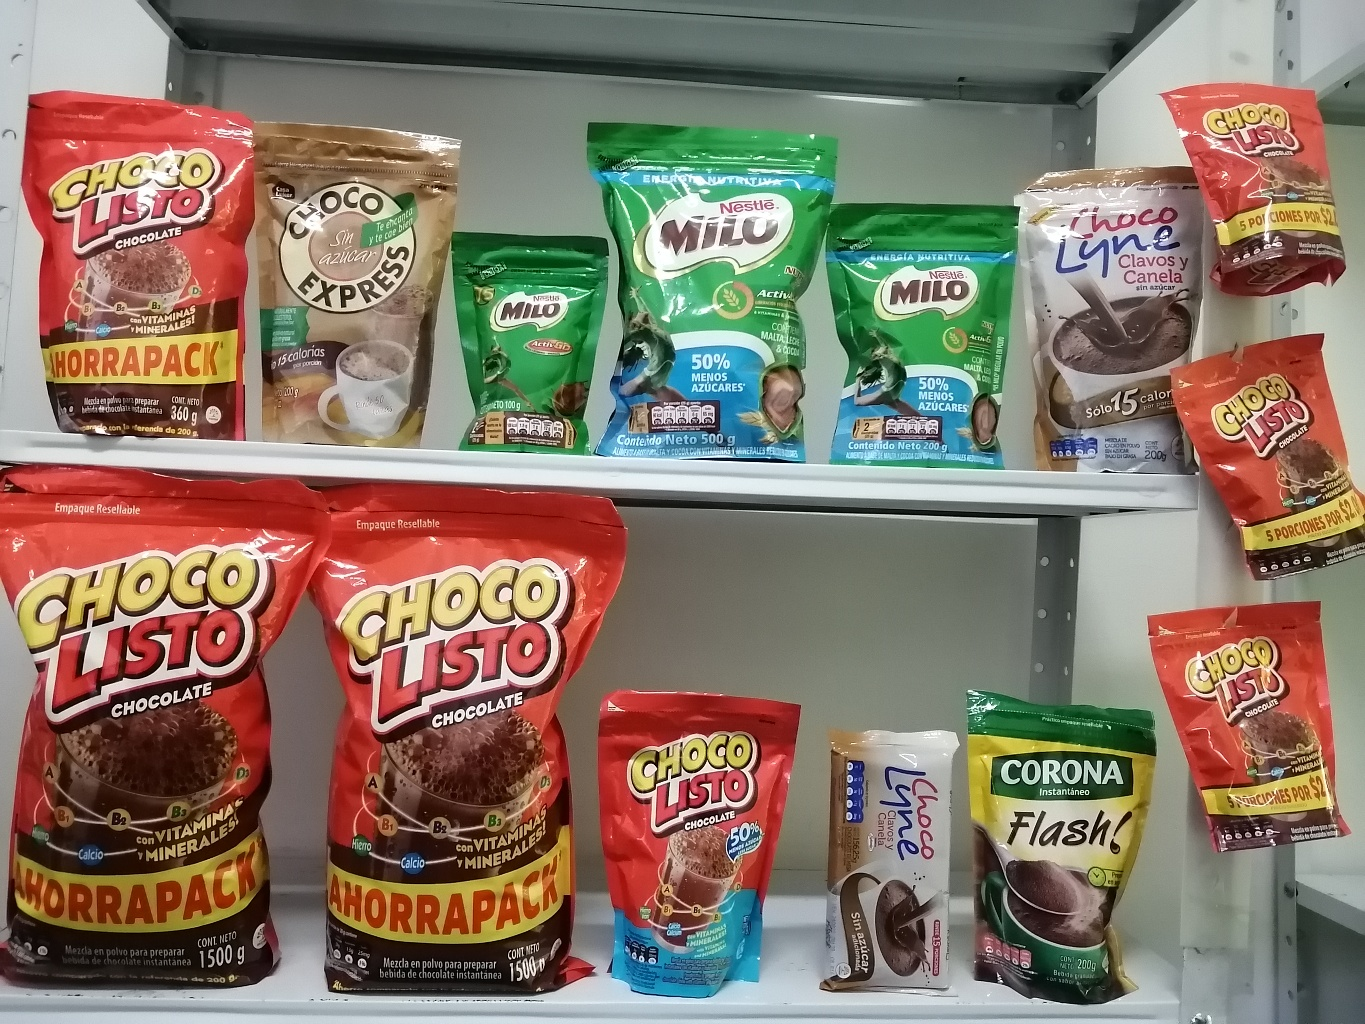COL0170103DYP1,500: (274, 474, 659, 1007)
COL0170103DYP36000: (8, 70, 262, 443)
COL0170104DYP20000: (570, 670, 830, 1009)
COL0170203DYP10000: (430, 218, 618, 461)
COL0170205DYP20000: (809, 189, 1026, 478)
COL0170205DYP50000: (574, 95, 855, 459)
